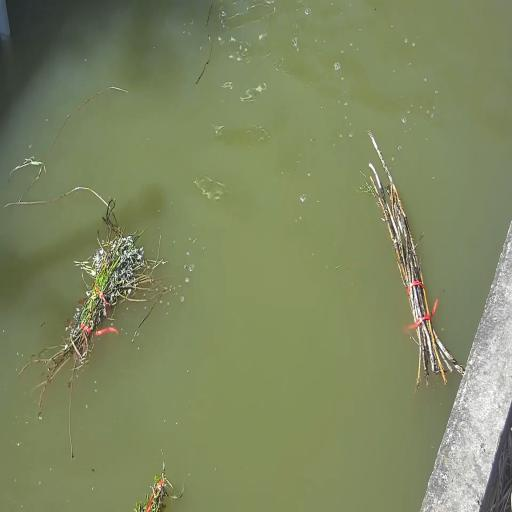twig: (356, 124, 468, 394), (36, 203, 168, 396), (130, 462, 182, 512)
